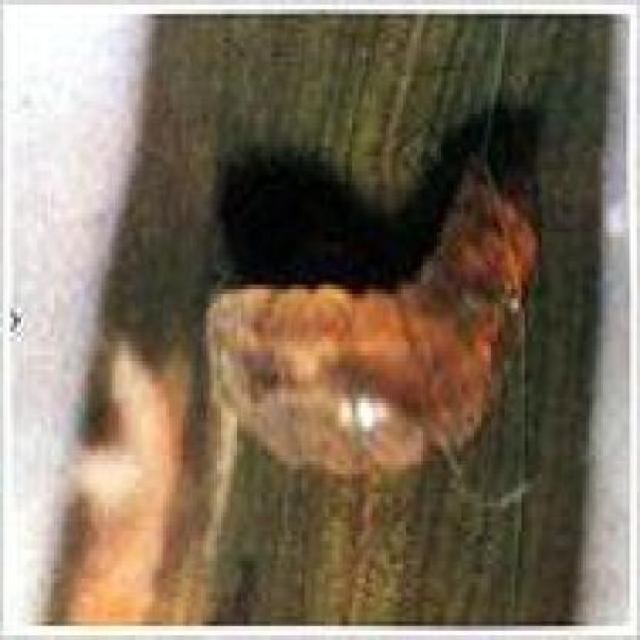whorl-maggot: (203, 167, 551, 482)
